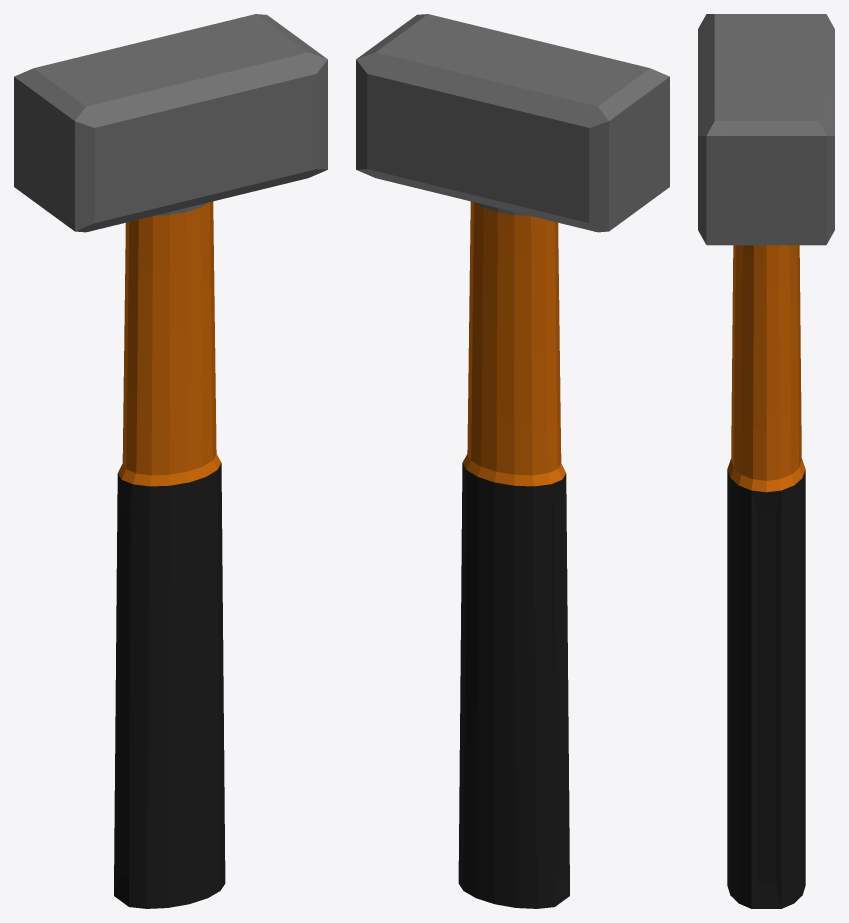
The model's file is Maza texturas simplesblend.fbx.
The picture shows the model from 3 angles, left to right: view 1: azimuth 30°, elevation 25°; view 2: azimuth 150°, elevation 25°; view 3: azimuth 270°, elevation 25°; orthographic projection.
Visible parts, largest first — view 1: Maza; view 2: Maza; view 3: Maza.
Boxes of the visible parts, x1,y1,x2,y2 form: Maza: (14, 14, 327, 908); Maza: (356, 14, 669, 908); Maza: (698, 14, 834, 908).
Bounding box in the file's own units: 10.54 × 33 × 5.
